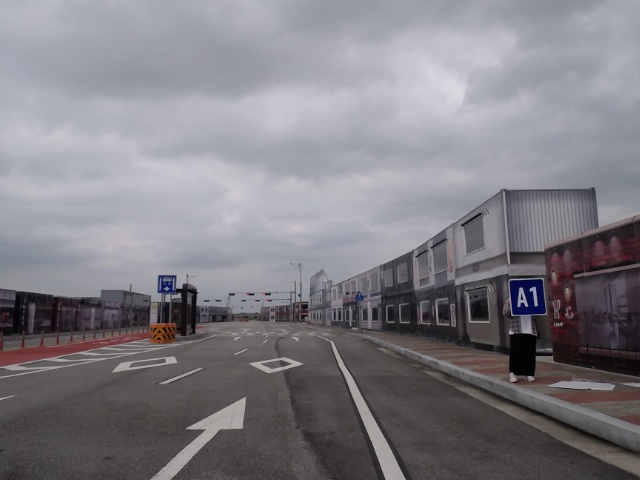delivery_a1: (510, 279, 547, 316)
